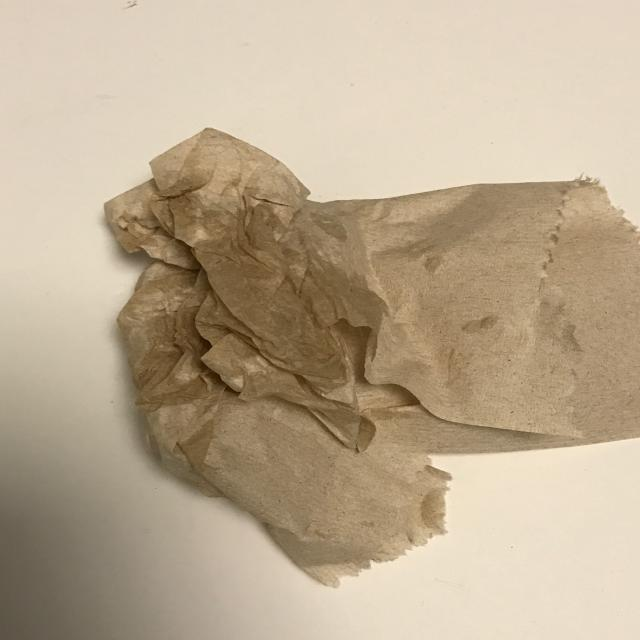Trash: (102, 126, 640, 588)
